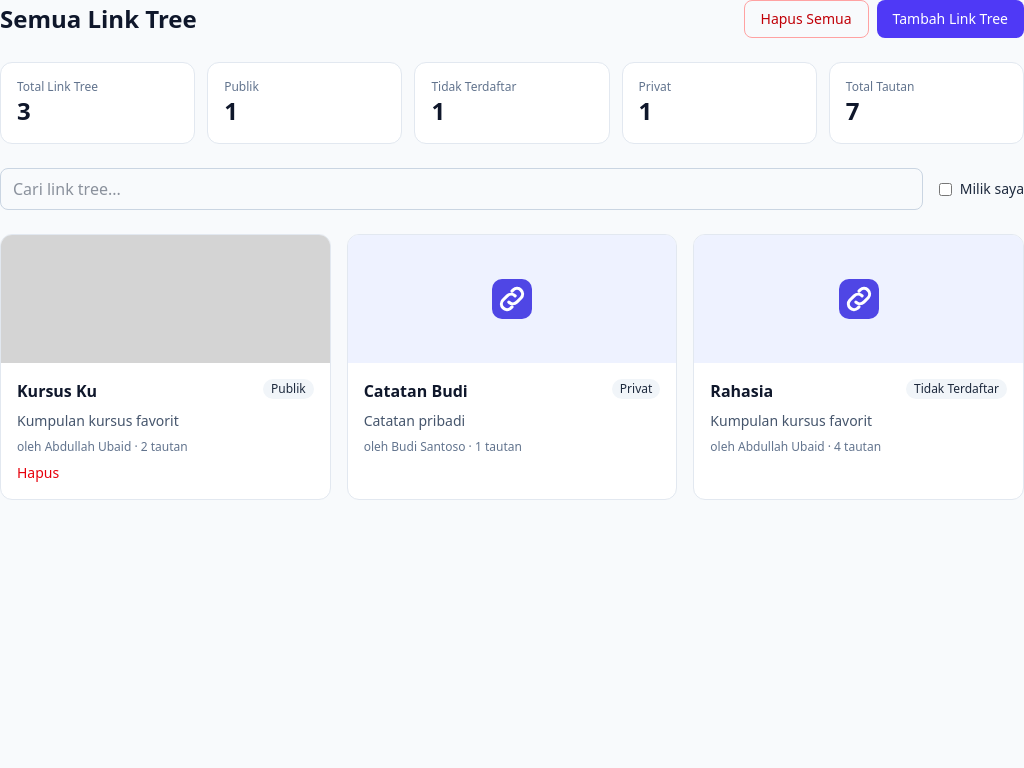
it: HomePage › menambah link tree lewat modal dan memuat ulang daftar
Expected: the link "Catatan Budi" is shown, [364, 379, 468, 403]
Click the button "Tambah Link Tree" at (950, 19), box [876, 0, 1023, 38]
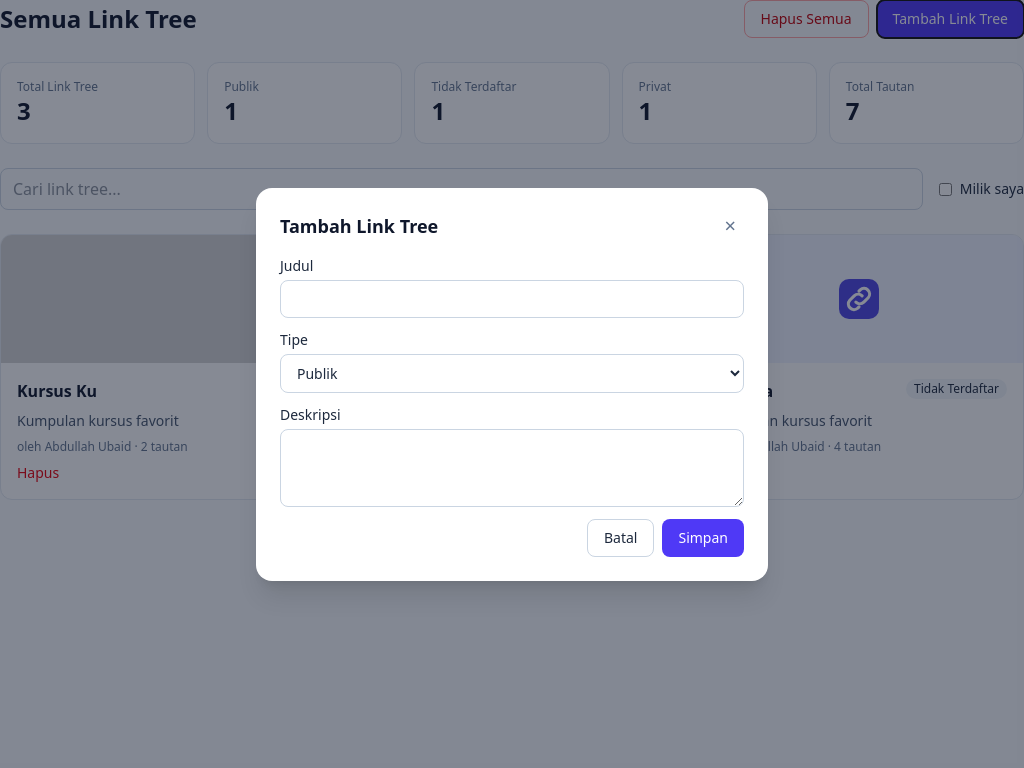
Type "Baru" into the field labelled "Judul" at (512, 298), box [280, 280, 744, 318]
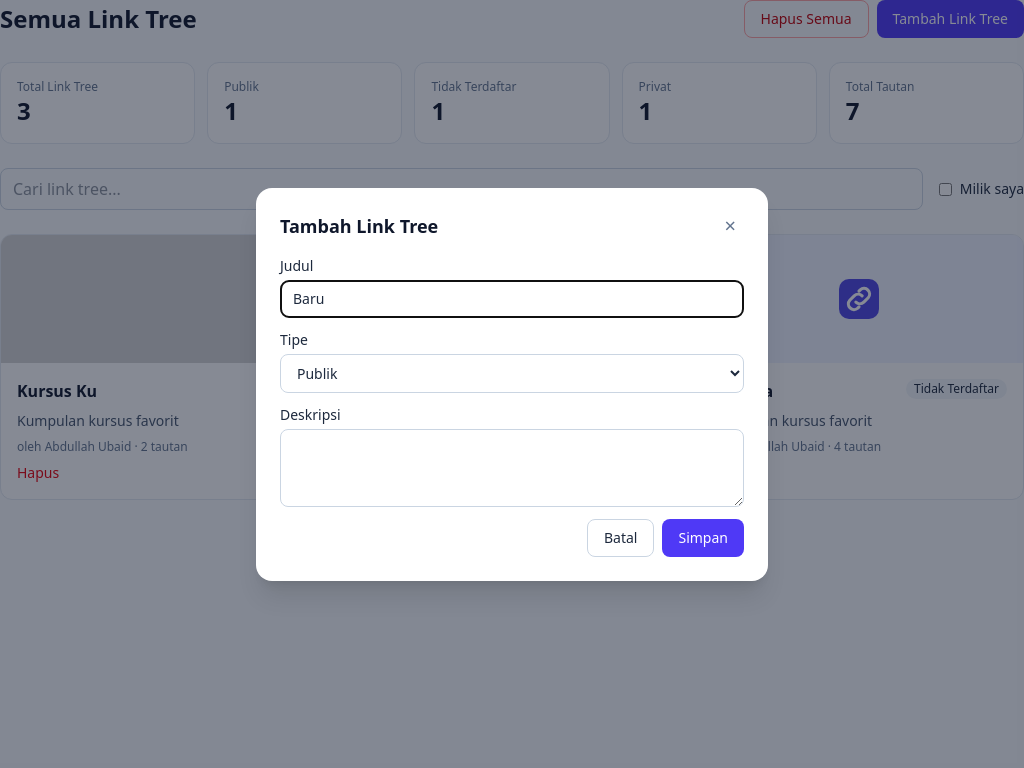
Type "Deskripsi baru" into the text box labelled "Deskripsi" at (512, 468), box [280, 428, 744, 506]
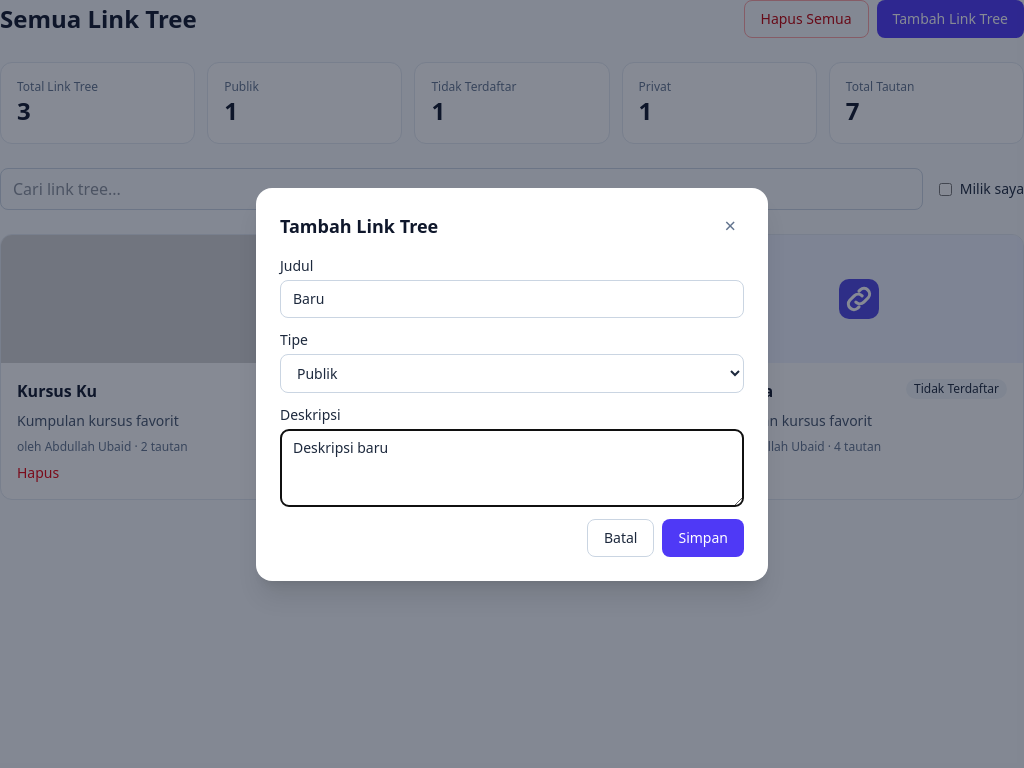
Click the button "Simpan" at (703, 538), box [662, 518, 744, 556]
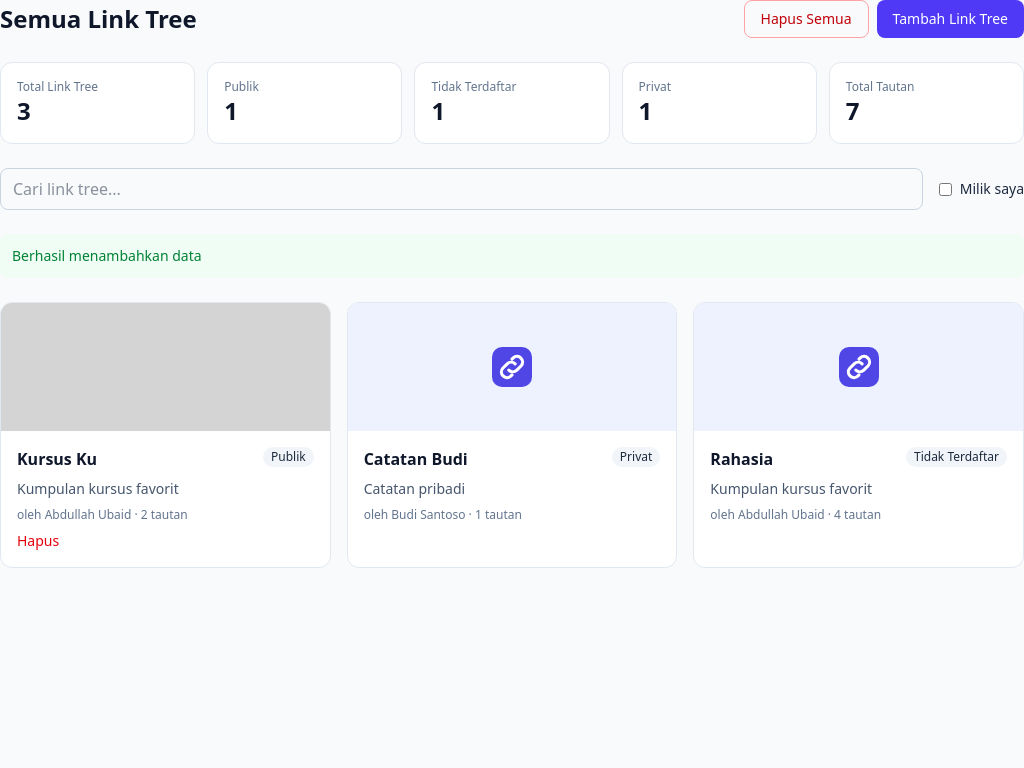
Now the dialog is gone
Now the message reads "Berhasil menambahkan data", box [12, 246, 202, 265]
